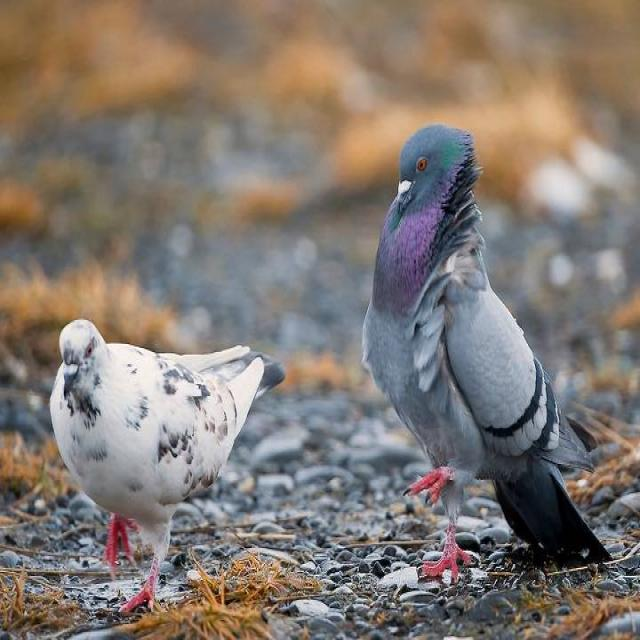bird: (362, 118, 611, 599), (48, 314, 285, 618)
